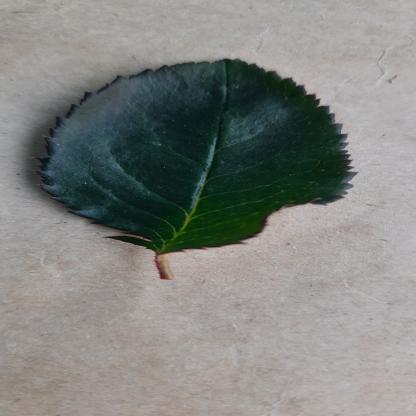normal: (30, 56, 360, 252)
